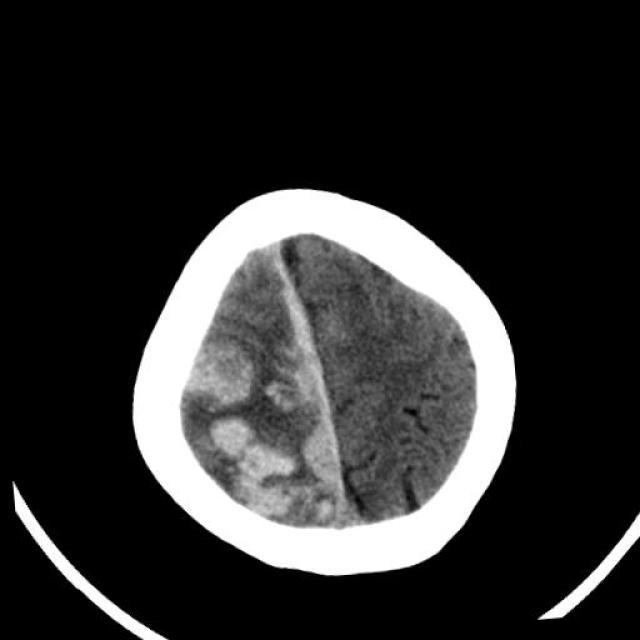Intraparenchymal: (210, 407, 316, 524), (178, 310, 273, 410)
Subdural: (272, 220, 381, 546)
